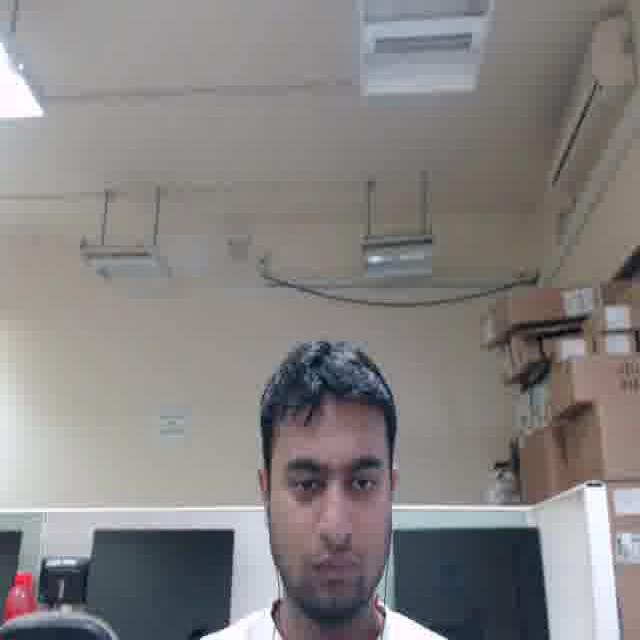Boredom: (265, 400, 390, 611)
